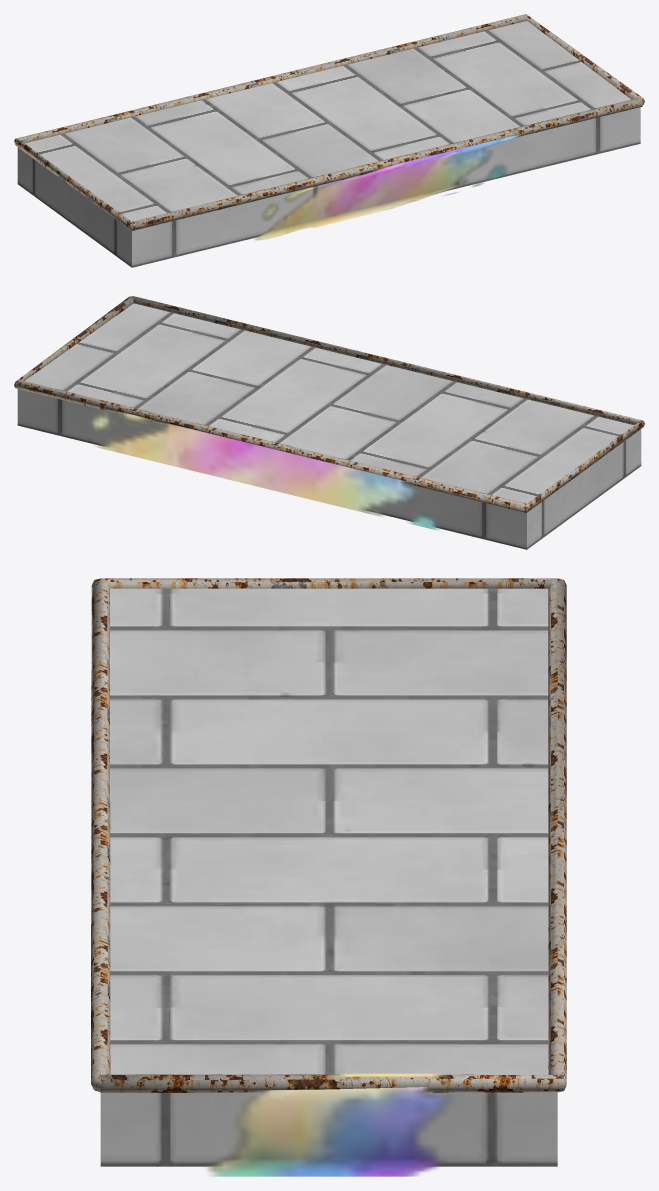
File: Plat_Manual.glb
The picture shows the model from 3 angles, top to bottom: view 1: azimuth 30°, elevation 25°; view 2: azimuth 150°, elevation 25°; view 3: azimuth 270°, elevation 25°; orthographic projection. The views are drawn at different scales.
Parts seen in each view (by area): view 1: Plat_Manual_Body, Plat_Manual_Edge, Plat_Manual_Paint; view 2: Plat_Manual_Body, Plat_Manual_Paint, Plat_Manual_Edge; view 3: Plat_Manual_Body, Plat_Manual_Edge, Plat_Manual_Paint.
Part boxes in pixels (box(x1,y1,x2,y2)): Plat_Manual_Body: box(17, 21, 640, 267); Plat_Manual_Edge: box(14, 14, 644, 230); Plat_Manual_Paint: box(254, 134, 520, 240); Plat_Manual_Body: box(17, 303, 641, 549); Plat_Manual_Paint: box(88, 411, 439, 530); Plat_Manual_Edge: box(14, 296, 644, 512); Plat_Manual_Body: box(100, 588, 557, 1166); Plat_Manual_Edge: box(91, 578, 566, 1092); Plat_Manual_Paint: box(207, 1073, 452, 1176).
Bounding box in the file's own units: 3.64 × 0.3479 × 1.46.
4 materials, 4 textured.
